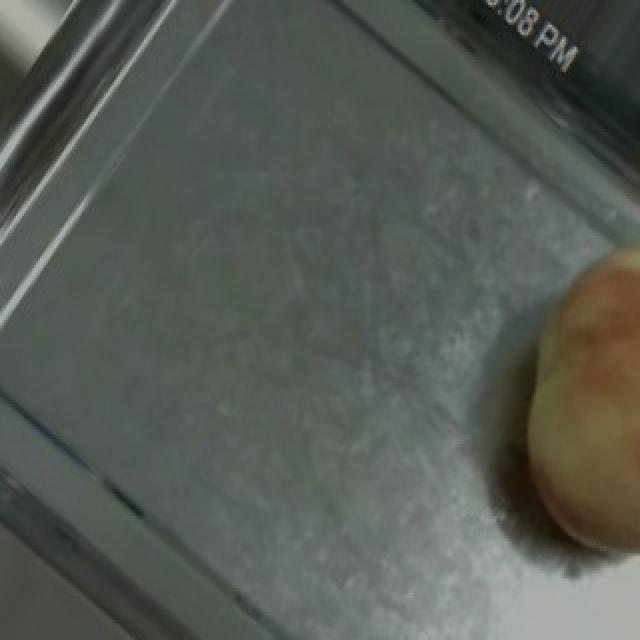Fruit: (476, 206, 640, 583)
